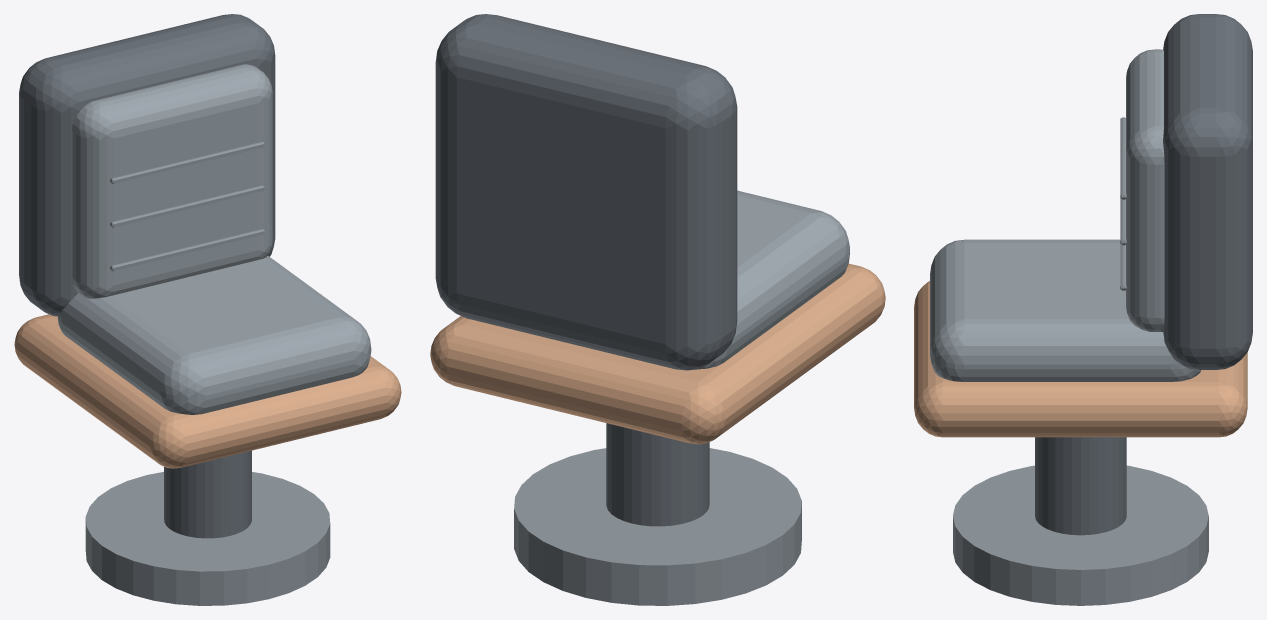
File: desk_chair.glb
3 renders of one model, left to right at view 1: azimuth 30°, elevation 25°; view 2: azimuth 150°, elevation 25°; view 3: azimuth 270°, elevation 25°, orthographic. The views are drawn at different scales.
Visible parts, largest first — view 1: back_cushion_007, seat_cushion_005, back_shell_006, column_001, seat_frame_004, column_002, stitch_009, stitch_008, stitch_010; view 2: back_shell_006, column_001, seat_frame_004, seat_cushion_005, column_002; view 3: back_shell_006, seat_cushion_005, column_001, seat_frame_004, back_cushion_007, column_002, stitch_010.
Part boxes in pixels (x1=…): back_cushion_007: x1=72, y1=64, x2=272, y2=298; seat_cushion_005: x1=57, y1=255, x2=371, y2=414; back_shell_006: x1=19, y1=14, x2=275, y2=316; column_001: x1=85, y1=472, x2=330, y2=605; seat_frame_004: x1=14, y1=314, x2=401, y2=468; column_002: x1=164, y1=450, x2=251, y2=538; stitch_009: x1=110, y1=185, x2=264, y2=227; stitch_008: x1=110, y1=229, x2=264, y2=271; stitch_010: x1=110, y1=141, x2=264, y2=183; back_shell_006: x1=435, y1=14, x2=737, y2=370; column_001: x1=514, y1=448, x2=801, y2=605; seat_frame_004: x1=430, y1=263, x2=885, y2=444; seat_cushion_005: x1=698, y1=190, x2=849, y2=369; column_002: x1=606, y1=423, x2=709, y2=526; back_shell_006: x1=1163, y1=14, x2=1252, y2=369; seat_cushion_005: x1=930, y1=239, x2=1201, y2=381; column_001: x1=953, y1=465, x2=1208, y2=605; seat_frame_004: x1=914, y1=281, x2=1247, y2=437; back_cushion_007: x1=1126, y1=49, x2=1164, y2=331; column_002: x1=1035, y1=437, x2=1126, y2=535; stitch_010: x1=1120, y1=117, x2=1126, y2=199.
Bounding box in the file's own units: 0.565 × 1.02 × 0.64.
